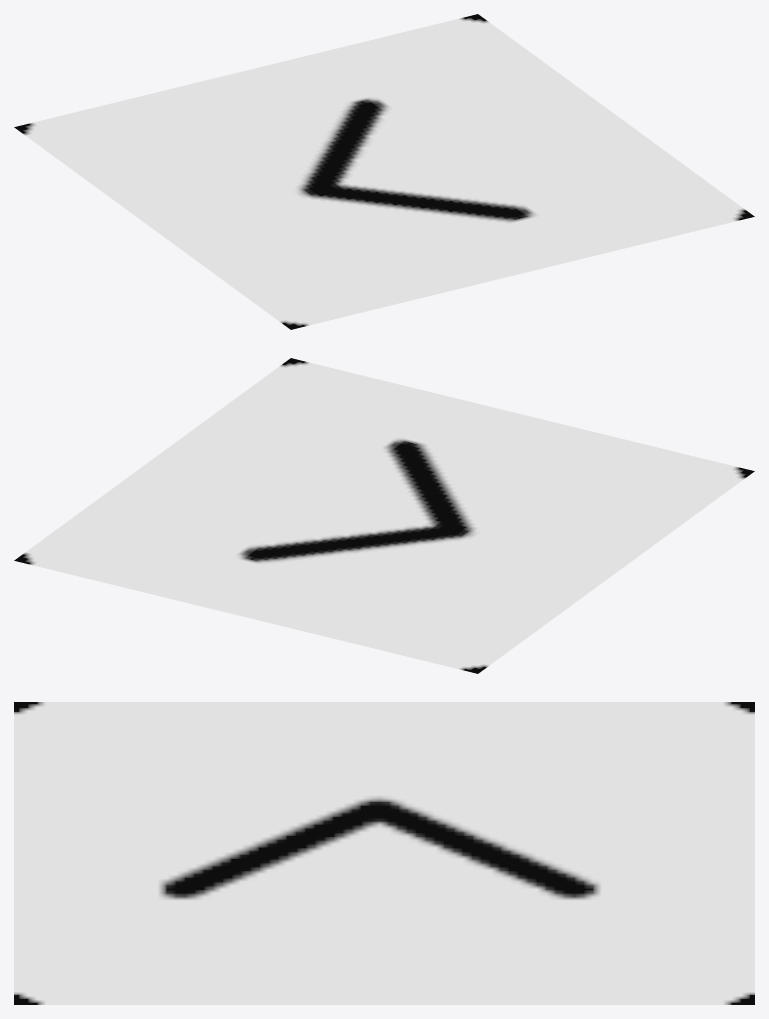
The model's file is Back Button Animated.fbx.
The picture shows the model from 3 angles, top to bottom: view 1: azimuth 30°, elevation 25°; view 2: azimuth 150°, elevation 25°; view 3: azimuth 270°, elevation 25°; orthographic projection. The views are drawn at different scales.
Visible parts, largest first — view 1: Plane001; view 2: Plane001; view 3: Plane001.
Part boxes in pixels (x1,y1,x2,y2): Plane001: [14, 14, 754, 329]; Plane001: [14, 358, 754, 673]; Plane001: [14, 702, 754, 1004].
Size of the model in its own units: 0.9328 by 5.9e-17 by 0.9642.
Materials: 1 (1 with a texture image).
